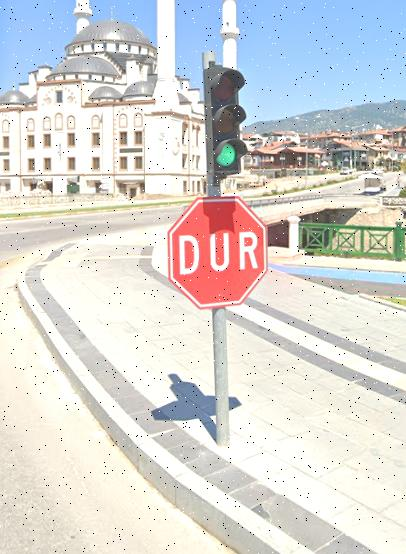greenlight: (205, 66, 247, 174)
stop: (172, 198, 268, 301)
